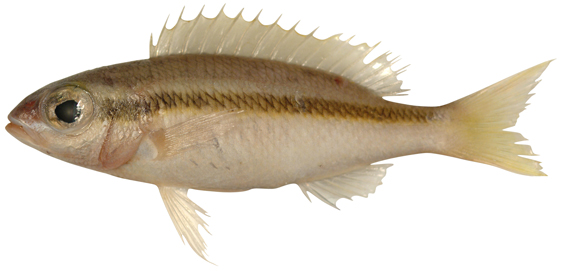fish: (5, 3, 560, 266)
